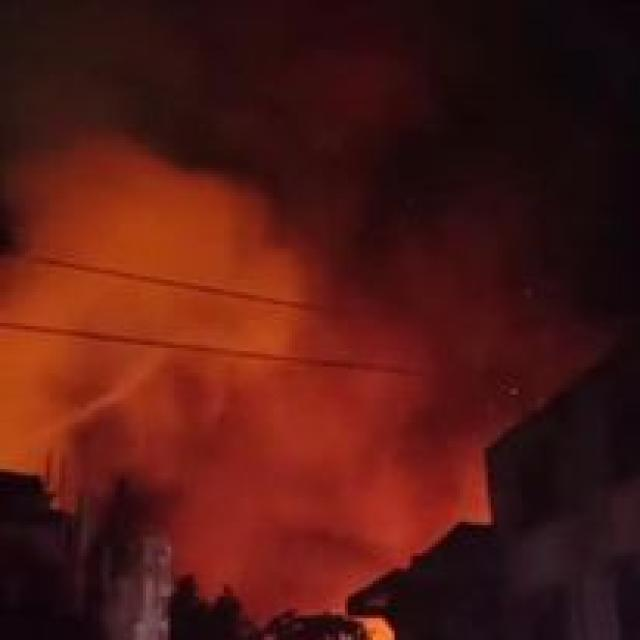Fire: (321, 588, 404, 640)
Smoke: (9, 140, 482, 606)
